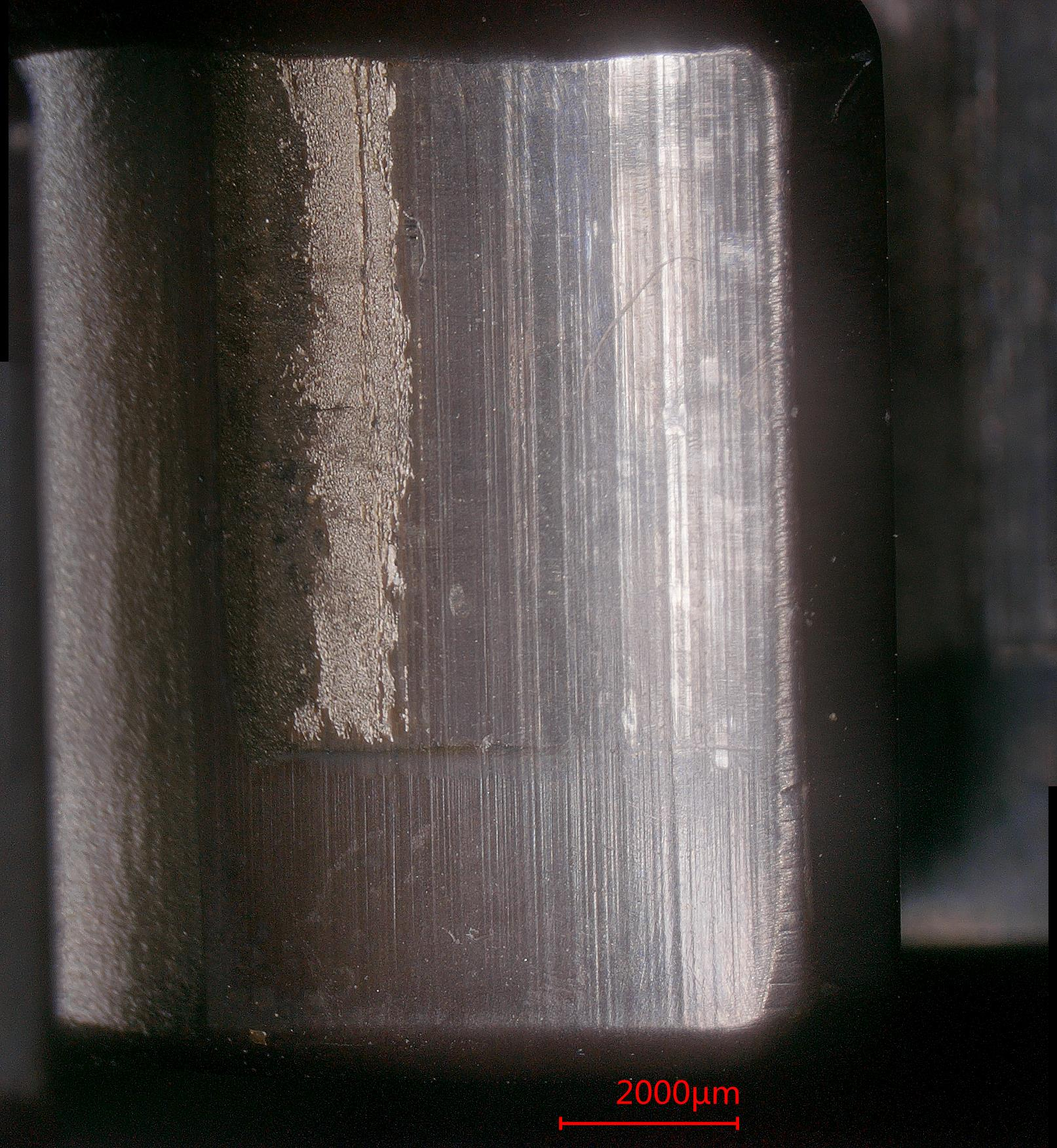Abrasion: (206, 63, 788, 1033)
